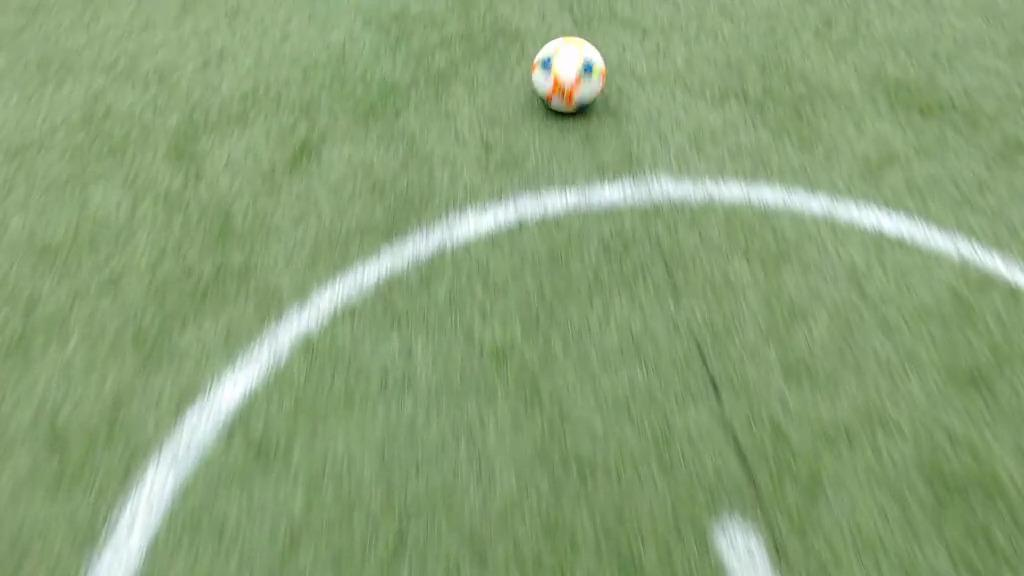ball: (531, 36, 604, 113)
